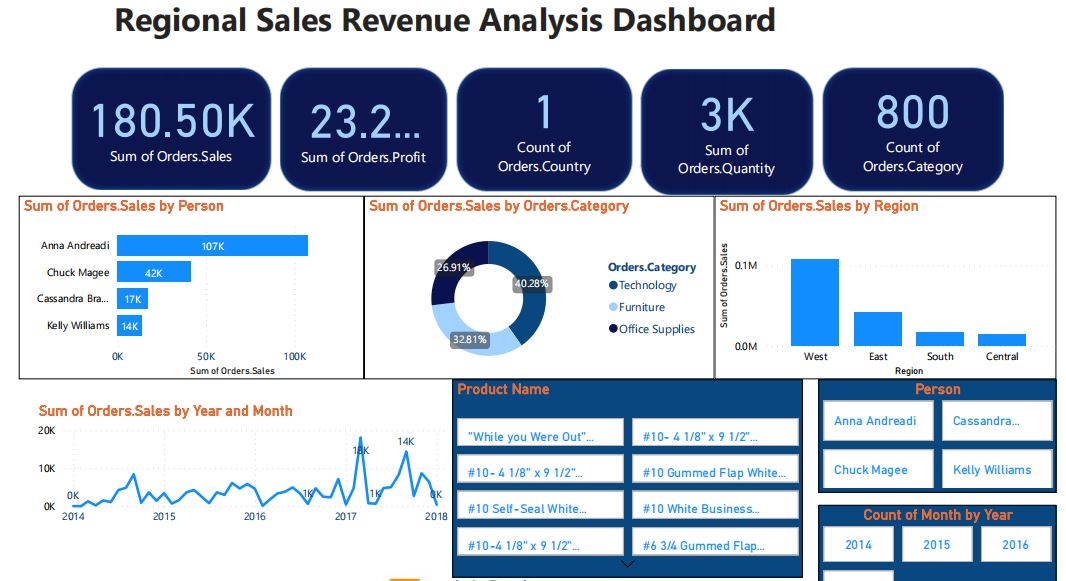

The page's visual inventory and layout, read from the dashboard file:
{"tool":"powerbi","page":{"name":"Page 1","canvas":[1200,920],"ordinal":0},"visuals":[{"type":"textbox","box":[105.8,129.7,989.8,83.8],"z":0},{"type":"cardVisual","fields":{"Data":["Returned Orders.Orders.Sales"]},"box":[32.7,213.5,242.3,151.9],"z":1000},{"type":"cardVisual","fields":{"Data":["Returned Orders.Orders.Profit"]},"box":[275,211.5,246.2,153.8],"z":2000},{"type":"cardVisual","fields":{"Data":["Returned Orders.Orders.Country"]},"box":[521.2,215.4,223.1,153.8],"z":3000},{"type":"cardVisual","fields":{"Data":["Returned Orders.Orders.Quantity"]},"box":[744.2,213.5,207.7,155.8],"z":4000},{"type":"cardVisual","fields":{"Data":["Returned Orders.Orders.Category"]},"box":[951.9,211.5,221.2,153.8],"z":5000},{"type":"clusteredBarChart","fields":{"Y":["Returned Orders.Orders.Sales"],"Category":["People.Person"]},"box":[0,365.2,399.1,211.5],"z":6000},{"type":"donutChart","fields":{"Y":["Returned Orders.Orders.Sales"],"Category":["Returned Orders.Orders.Category"]},"box":[399.1,365.2,405.1,211.5],"z":7000},{"type":"clusteredColumnChart","fields":{"Y":["Returned Orders.Orders.Sales"],"Category":["People.Region"]},"box":[804.3,365.2,395.1,211.5],"z":8000},{"type":"lineChart","fields":{"Y":["Returned Orders.Orders.Sales"],"Category":["Returned Orders.Orders.Ship Date.Variation.Date Hierarchy.Year","Returned Orders.Orders.Ship Date.Variation.Date Hierarchy.Month"]},"box":[18,602.7,483,151.7],"z":9000},{"type":"advancedSlicerVisual","box":[18,755,483,150],"z":12001},{"type":"advancedSlicerVisual","fields":{"Values":["People.Person"]},"box":[921.2,105.8,234.6,153.8],"z":12002}]}

Visuals, with their boxes on the page's 1200x920 design canvas (x1, y1, x2, y2). These are canvas units, not pixel positions in the 1066x581 screenshot, which may show the page scaled, cropped or inside an application window:
textbox: 106 130 1096 214
cardVisual - Returned Orders.Orders.Sales: 33 214 275 365
cardVisual - Returned Orders.Orders.Profit: 275 212 521 365
cardVisual - Returned Orders.Orders.Country: 521 215 744 369
cardVisual - Returned Orders.Orders.Quantity: 744 214 952 369
cardVisual - Returned Orders.Orders.Category: 952 212 1173 365
clusteredBarChart - Returned Orders.Orders.Sales x People.Person: 0 365 399 577
donutChart - Returned Orders.Orders.Sales x Returned Orders.Orders.Category: 399 365 804 577
clusteredColumnChart - Returned Orders.Orders.Sales x People.Region: 804 365 1199 577
lineChart - Returned Orders.Orders.Sales x Returned Orders.Orders.Ship Date.Variation.Date Hierarchy.Year: 18 603 501 754
advancedSlicerVisual: 18 755 501 905
advancedSlicerVisual - People.Person: 921 106 1156 260
